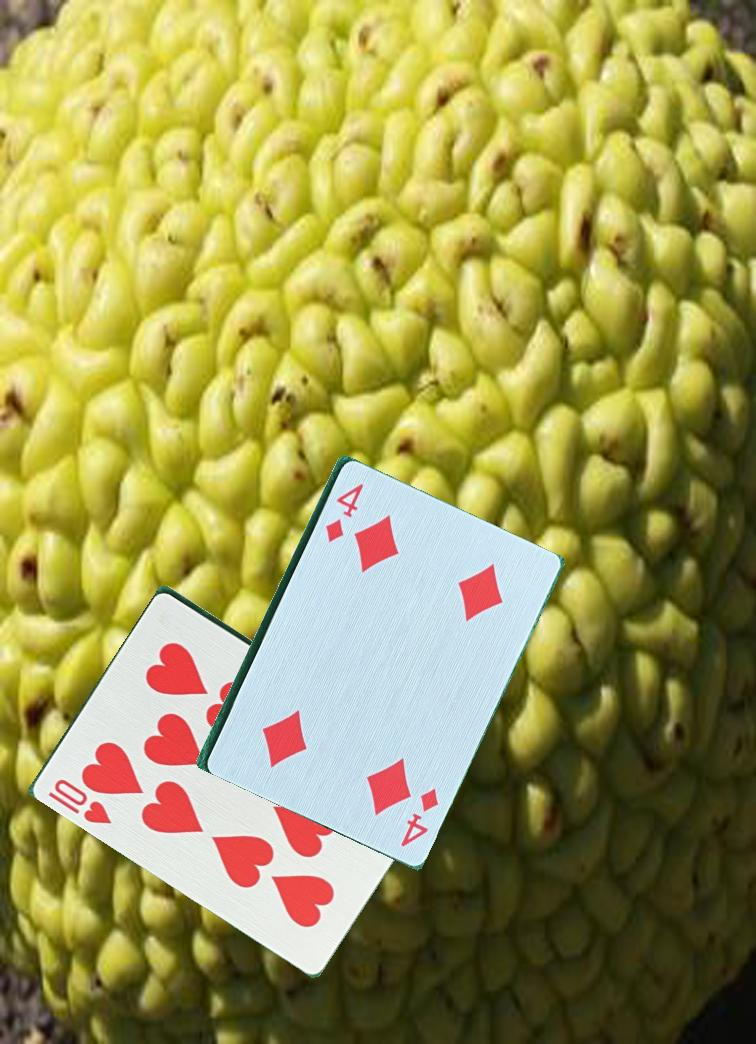4d: (396, 783, 443, 850), (320, 479, 367, 545)
th: (45, 774, 116, 828)
